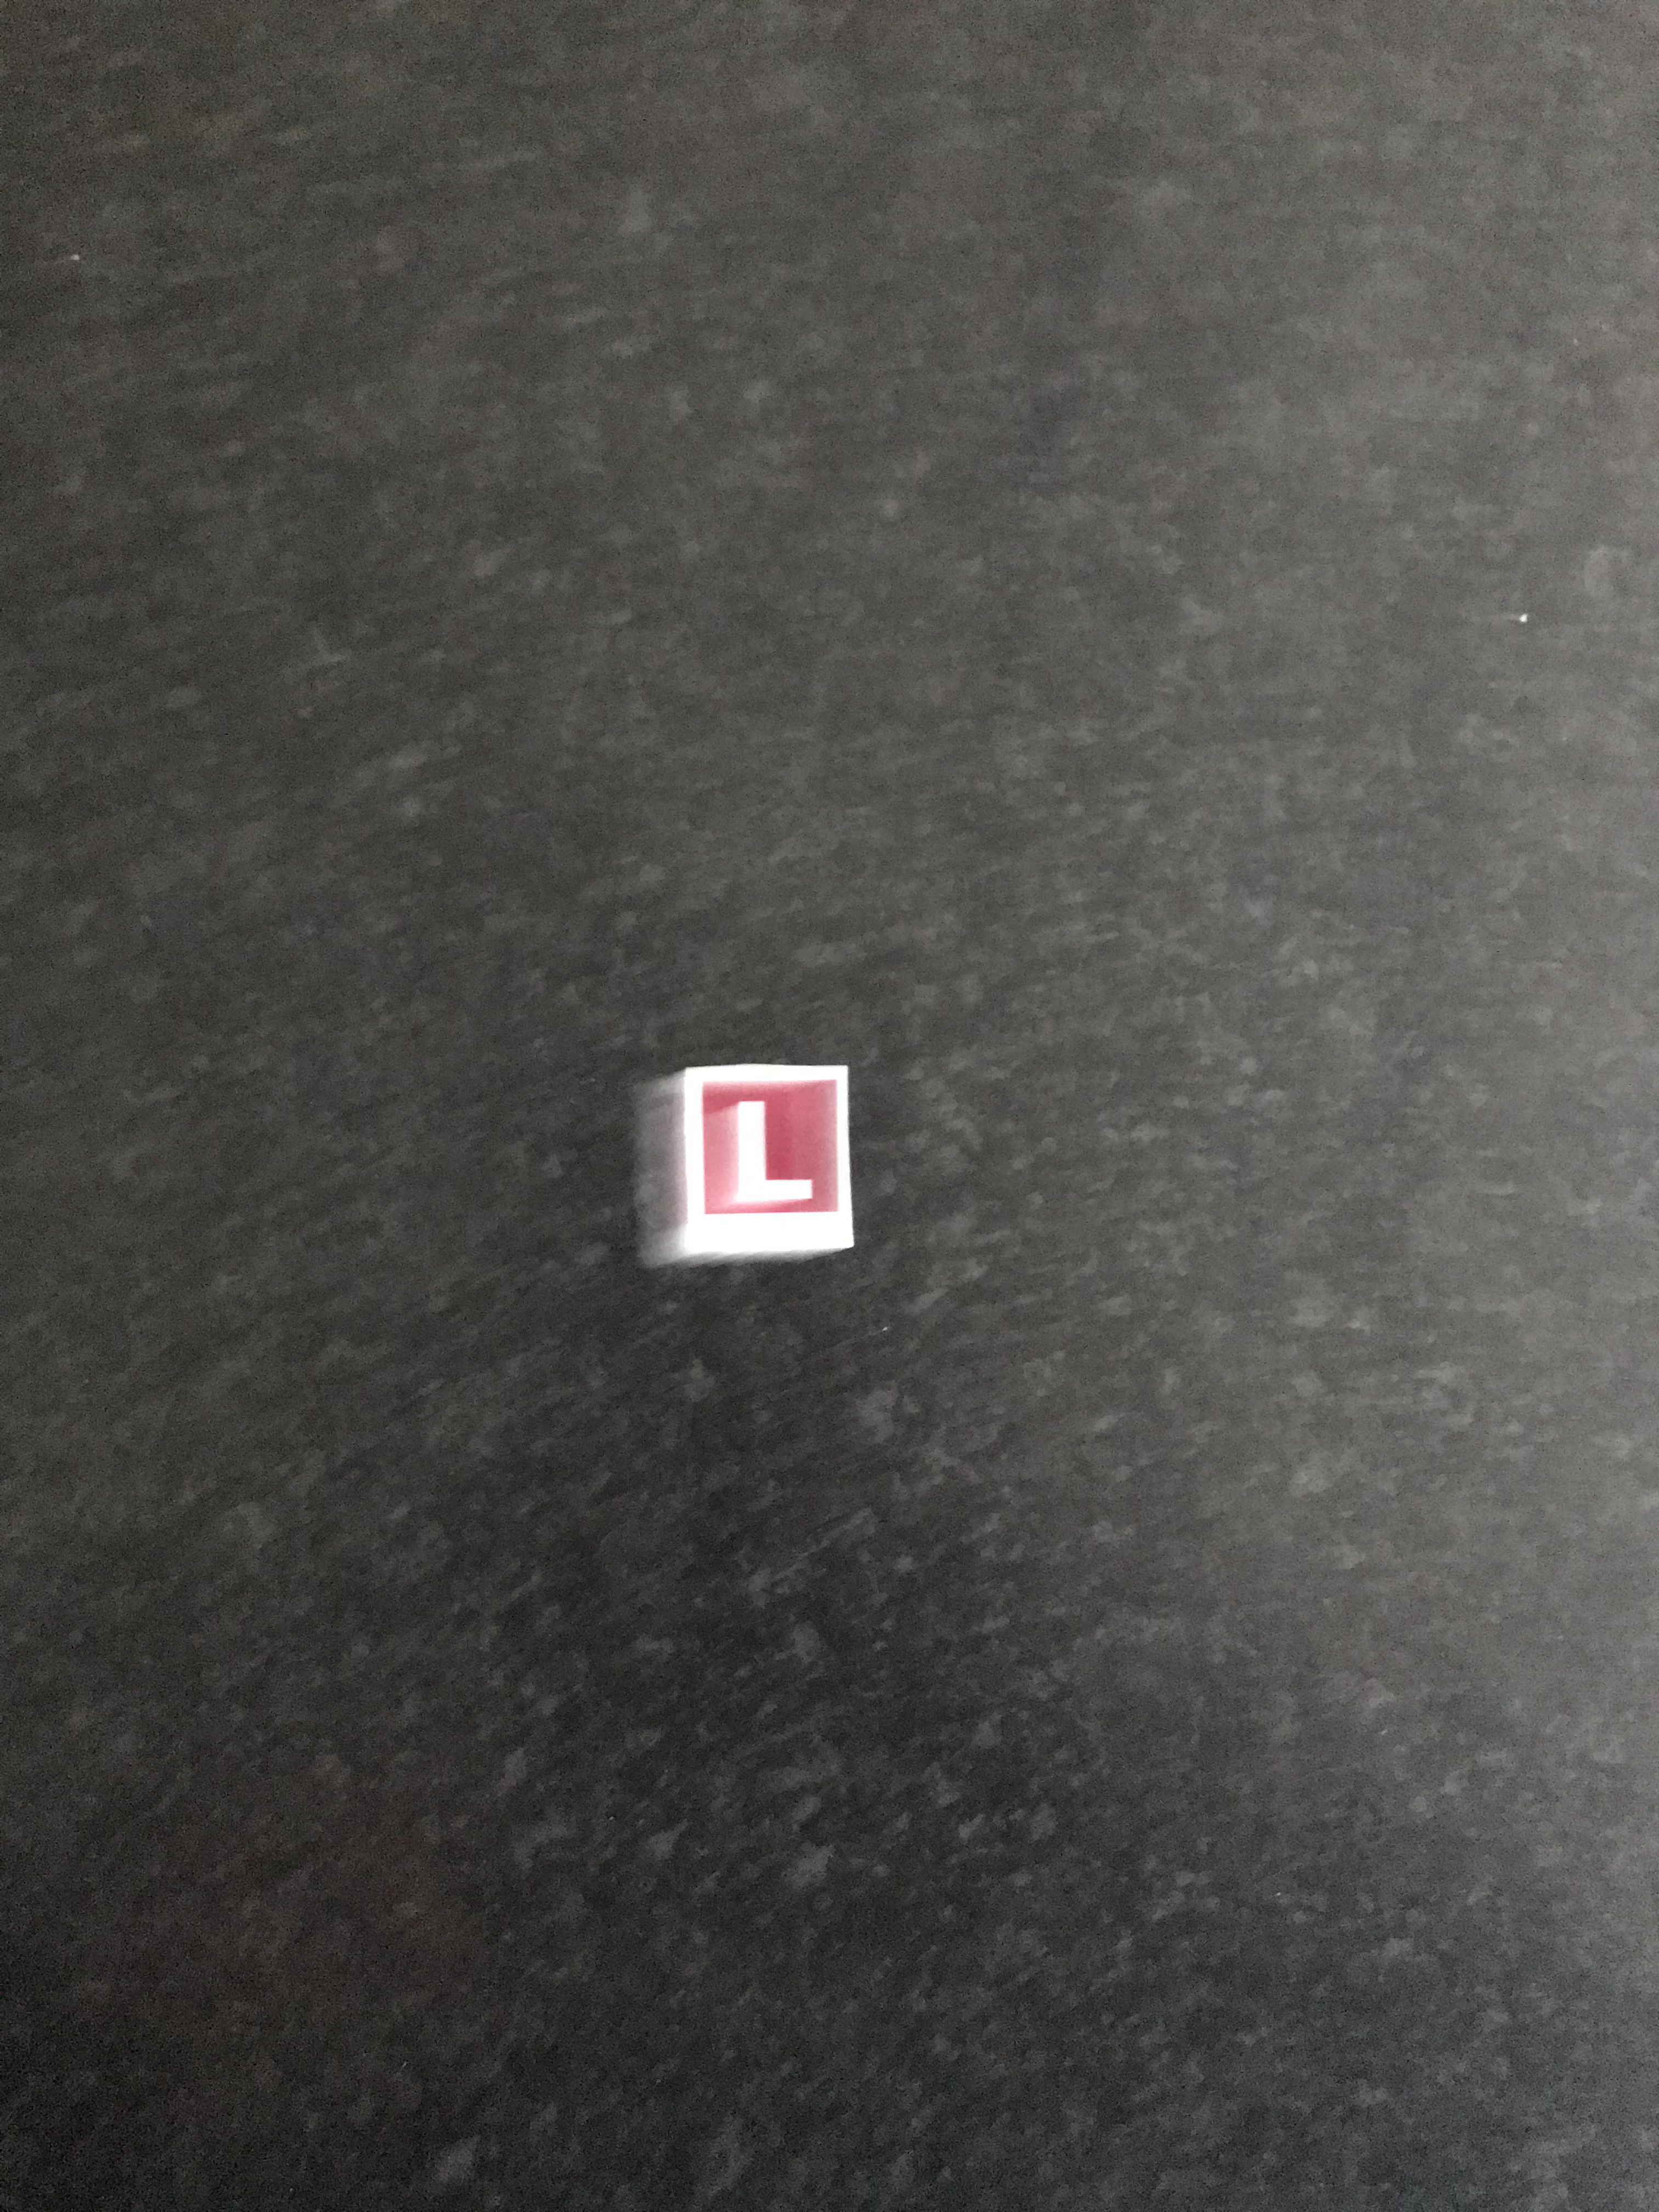red marker: (669, 1035, 857, 1273)
